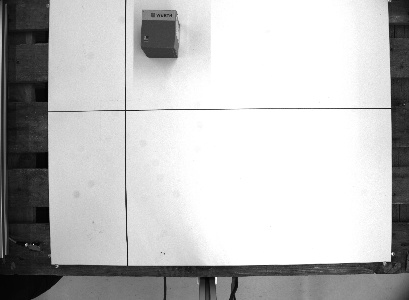b7: (138, 4, 182, 60)
